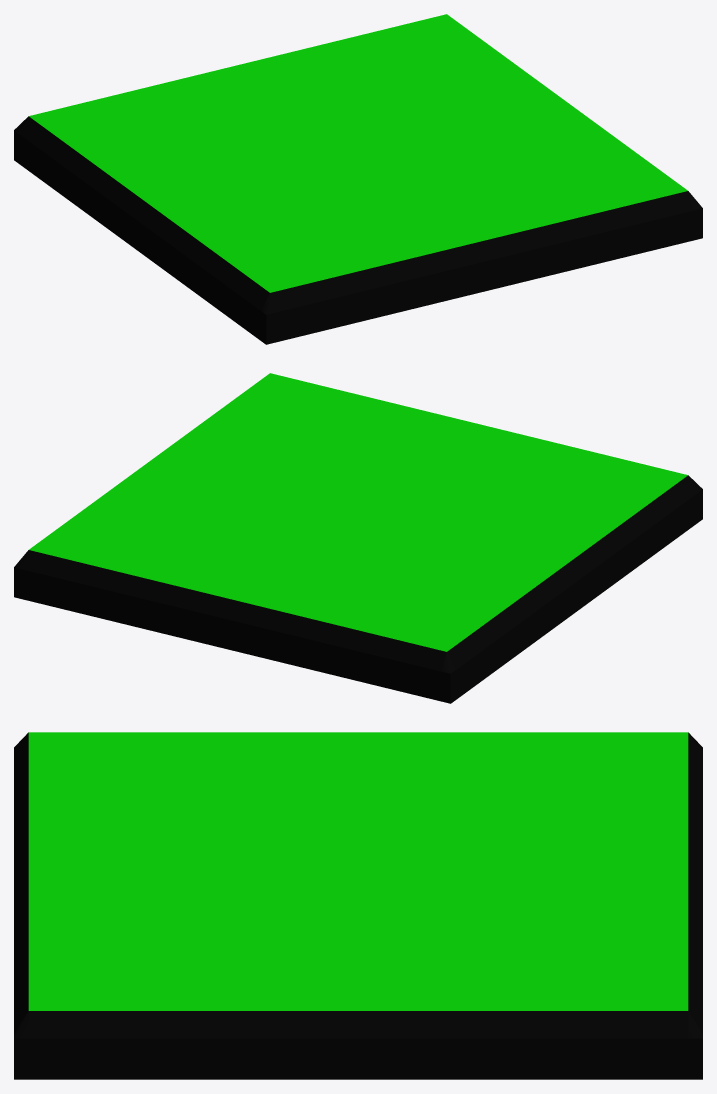
File: SM_BoardTile.fbx
The picture shows the model from 3 angles, top to bottom: view 1: azimuth 30°, elevation 25°; view 2: azimuth 150°, elevation 25°; view 3: azimuth 270°, elevation 25°; orthographic projection. The views are drawn at different scales.
Visible parts, largest first — view 1: SM_BoardTile; view 2: SM_BoardTile; view 3: SM_BoardTile.
Part boxes in pixels (box(x1,y1,x2,y2)): SM_BoardTile: box(14, 14, 702, 344); SM_BoardTile: box(14, 373, 702, 703); SM_BoardTile: box(14, 732, 702, 1079).
Bounding box in the file's own units: 100 × 10 × 100.
